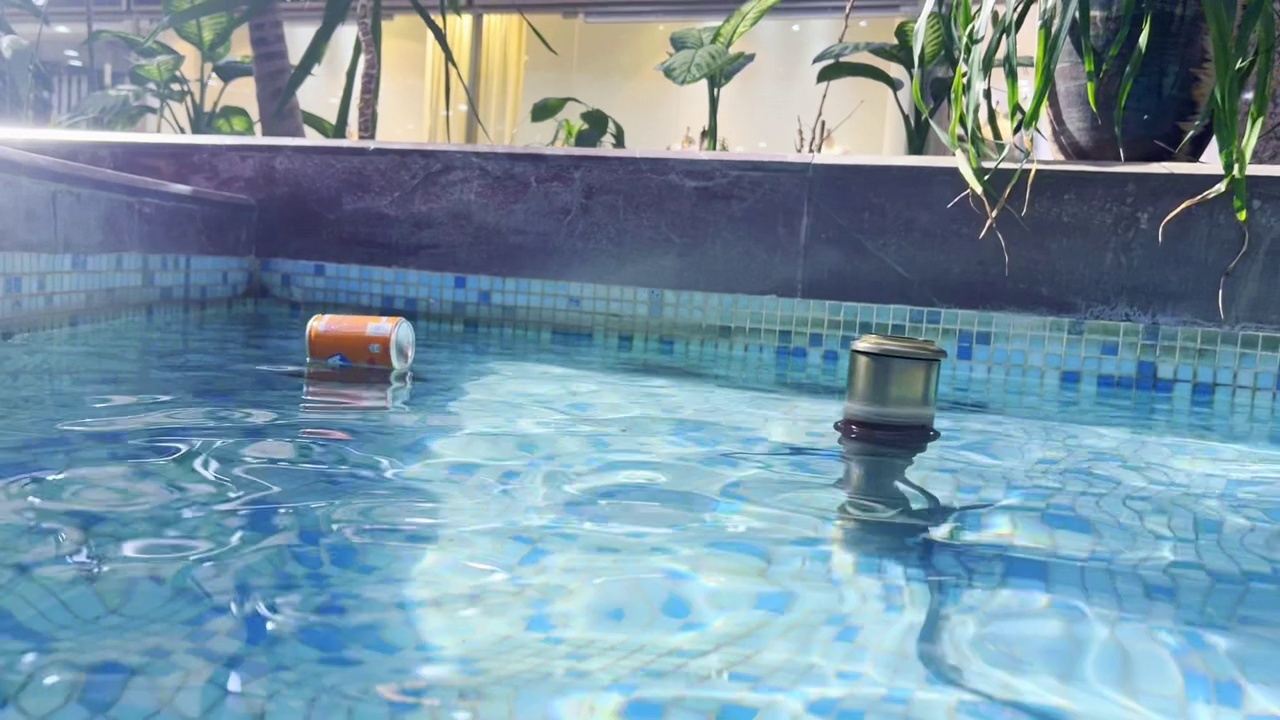debris: (299, 300, 420, 375)
